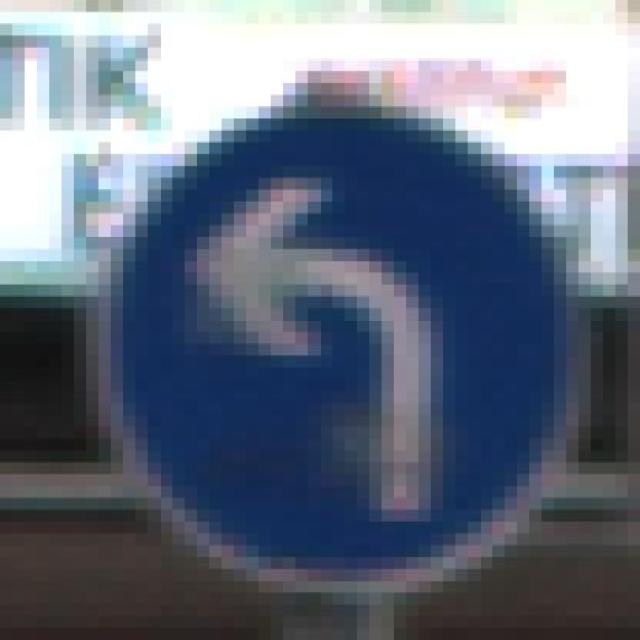Turn left ahead: (95, 85, 574, 583)
